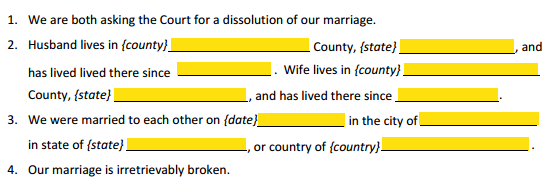textline: (380, 135, 530, 153), (401, 60, 542, 78), (112, 86, 249, 104), (166, 37, 311, 54), (418, 110, 540, 128), (126, 135, 247, 153), (397, 37, 517, 55), (393, 85, 500, 104), (176, 59, 272, 78), (255, 110, 346, 129)
